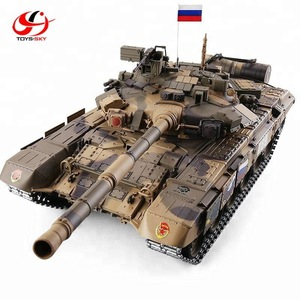Battle Tank: (10, 54, 294, 252)
